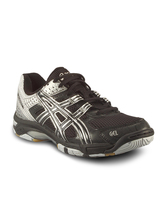shoes: (9, 65, 158, 160)
